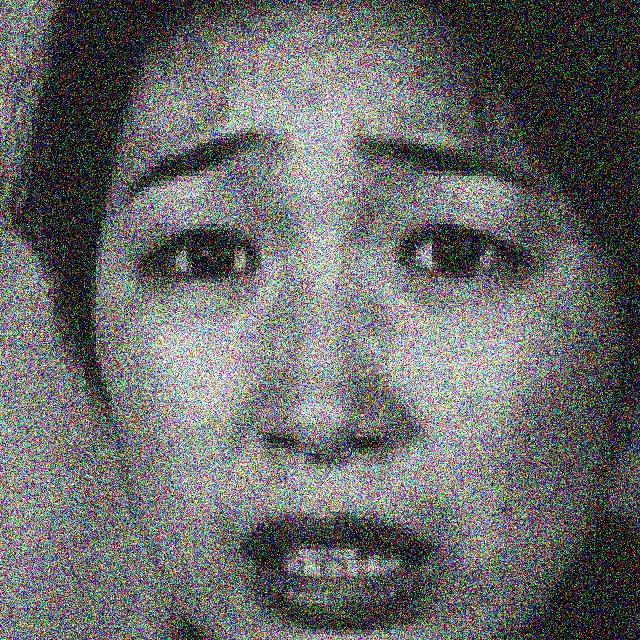fear: (77, 47, 551, 633)
